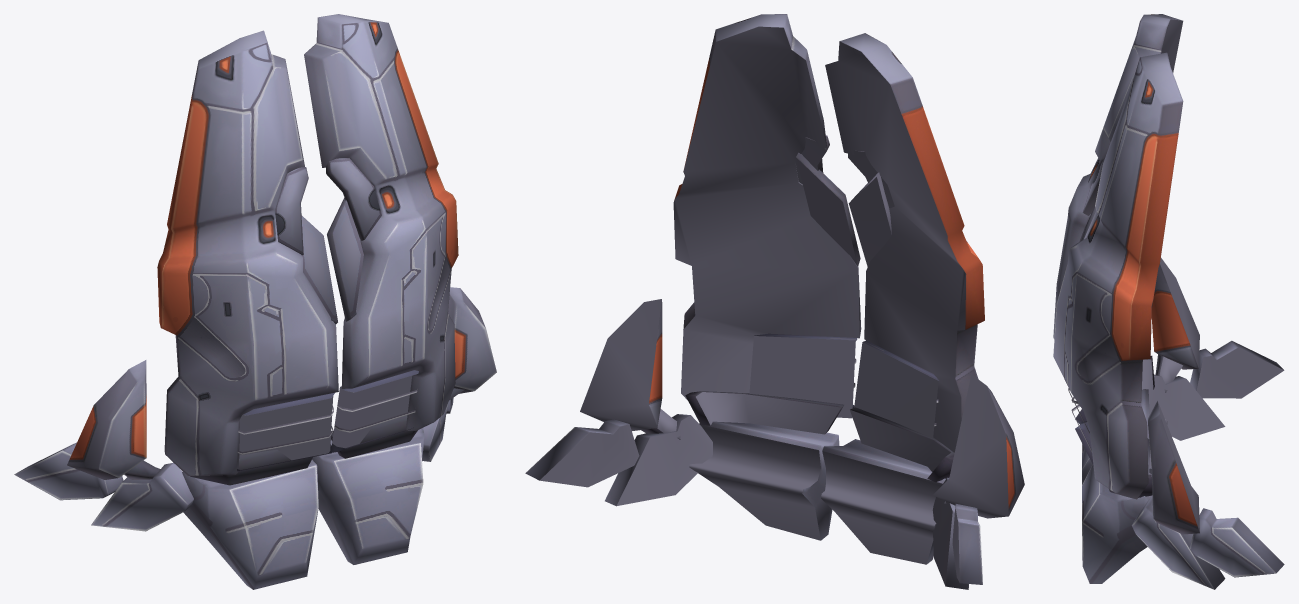
File: _headwear_044.fbx
3 views of the same model, side by side, from view 1: azimuth 30°, elevation 25°; view 2: azimuth 150°, elevation 25°; view 3: azimuth 270°, elevation 25° (orthographic). The views are drawn at different scales.
Visible parts, largest first — view 1: f_headwear_044; view 2: f_headwear_044; view 3: f_headwear_044.
Part boxes in pixels (box(x1,y1,x2,y2)): f_headwear_044: box(14, 14, 496, 589); f_headwear_044: box(525, 14, 1024, 589); f_headwear_044: box(1053, 14, 1284, 589).
Bounding box in the file's own units: 18.14 × 20.36 × 8.39.
